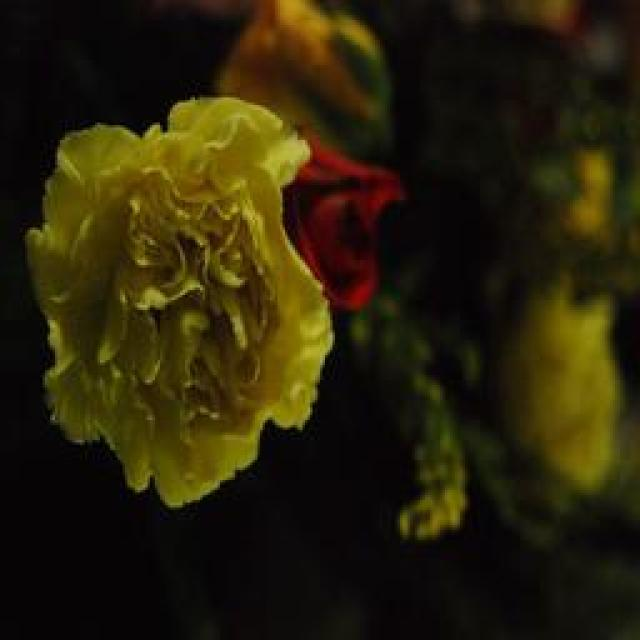carnation: (9, 87, 356, 520)
